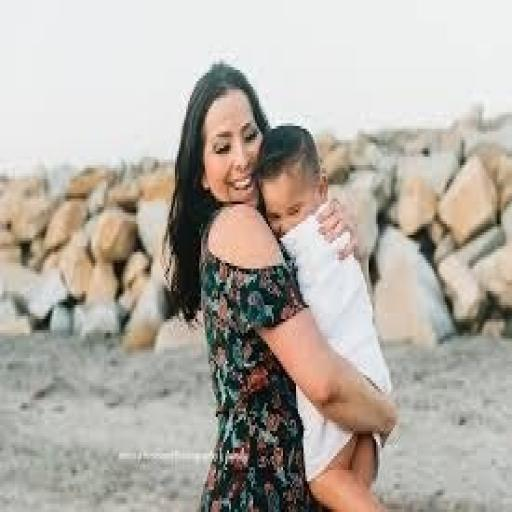hugging: (162, 59, 398, 509)
